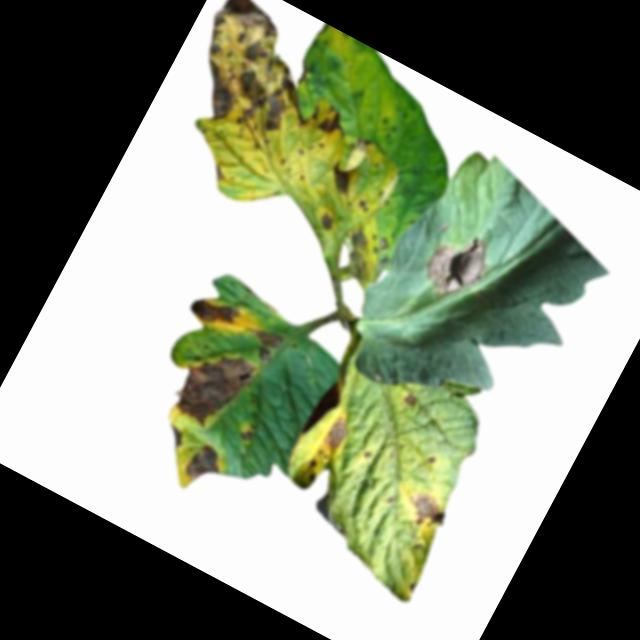Early_blight: (170, 1, 356, 163), (166, 335, 260, 438), (412, 216, 502, 312), (331, 218, 392, 285), (183, 283, 244, 336), (181, 436, 232, 493), (397, 484, 453, 535), (316, 411, 355, 457), (244, 323, 284, 367), (319, 157, 359, 200), (314, 103, 352, 144), (158, 420, 189, 451), (349, 131, 375, 157), (299, 456, 324, 483), (315, 207, 340, 233), (235, 418, 259, 444), (353, 193, 374, 213), (399, 388, 419, 408)
